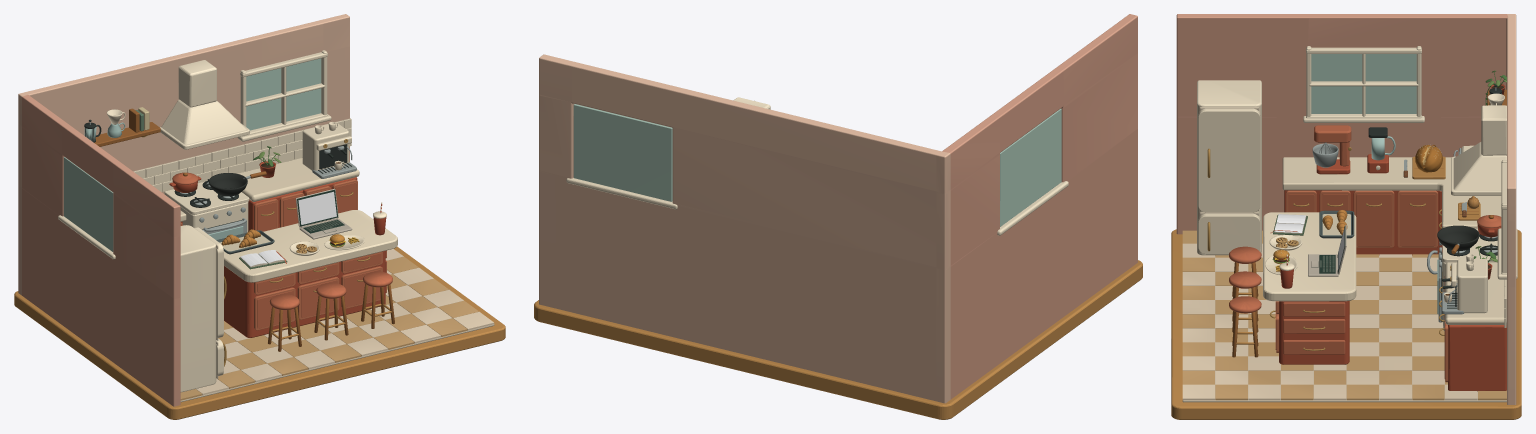
The model's file is sams-kitchen-detailed.glb.
3 views of the same model, side by side, from view 1: azimuth 30°, elevation 25°; view 2: azimuth 150°, elevation 25°; view 3: azimuth 270°, elevation 25° (orthographic). The views are drawn at different scales.
Visible parts, largest first — view 1: Sam's recipe manager kitchen; view 2: Sam's recipe manager kitchen; view 3: Sam's recipe manager kitchen.
Part boxes in pixels (x1=…): Sam's recipe manager kitchen: x1=14, y1=14, x2=505, y2=419; Sam's recipe manager kitchen: x1=534, y1=14, x2=1142, y2=419; Sam's recipe manager kitchen: x1=1171, y1=14, x2=1521, y2=419.
Size of the model in its own units: 7.5 by 4.49 by 6.2.
